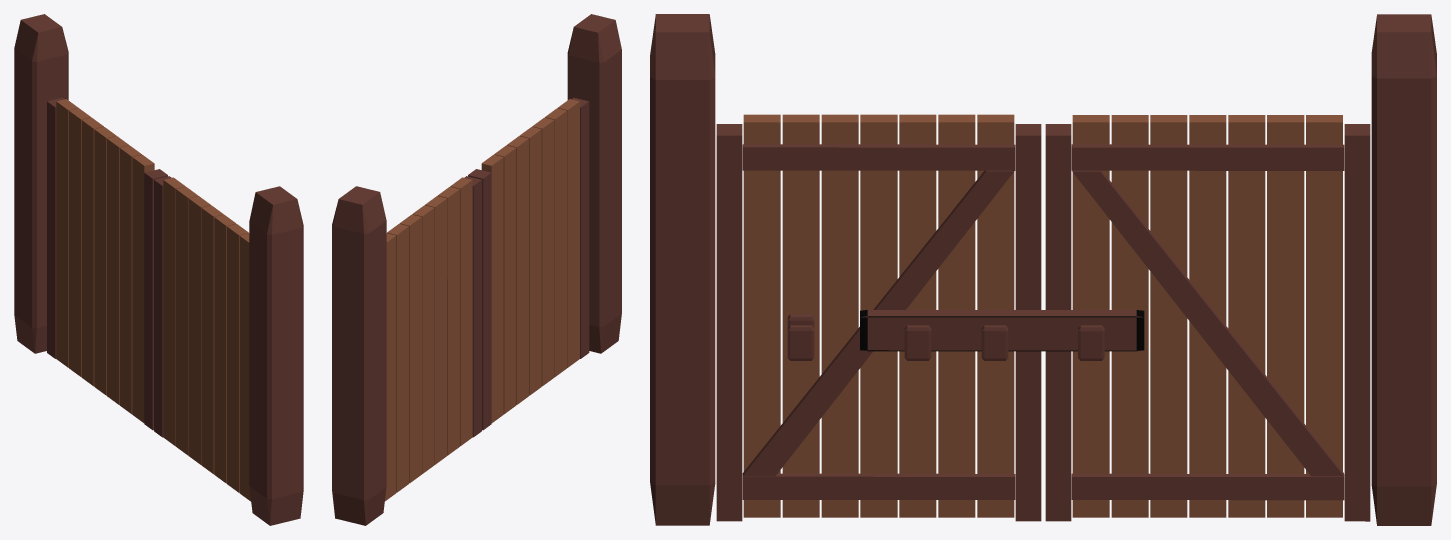
File: gate_no_roof.fbx
The picture shows the model from 3 angles, left to right: view 1: azimuth 30°, elevation 25°; view 2: azimuth 150°, elevation 25°; view 3: azimuth 270°, elevation 25°; orthographic projection. The views are drawn at different scales.
Parts seen in each view (by area): view 1: gate right, gate left, stand left, stand right; view 2: gate left, gate right, stand right, stand left; view 3: gate right, gate left, stand right, stand left, balk.
Part boxes in pixels (x1=…): gate right: x1=47, y1=97, x2=167, y2=430; gate left: x1=154, y1=176, x2=251, y2=501; stand left: x1=249, y1=186, x2=303, y2=525; stand right: x1=14, y1=14, x2=68, y2=353; gate left: x1=468, y1=97, x2=589, y2=430; gate right: x1=385, y1=176, x2=481, y2=501; stand right: x1=332, y1=186, x2=386, y2=525; stand left: x1=567, y1=14, x2=621, y2=353; gate right: x1=1045, y1=115, x2=1370, y2=521; gate left: x1=716, y1=114, x2=1041, y2=521; stand right: x1=1371, y1=14, x2=1436, y2=525; stand left: x1=650, y1=14, x2=715, y2=525; balk: x1=860, y1=310, x2=1144, y2=351.
Size of the model in its own units: 227 by 1654 by 2401.
